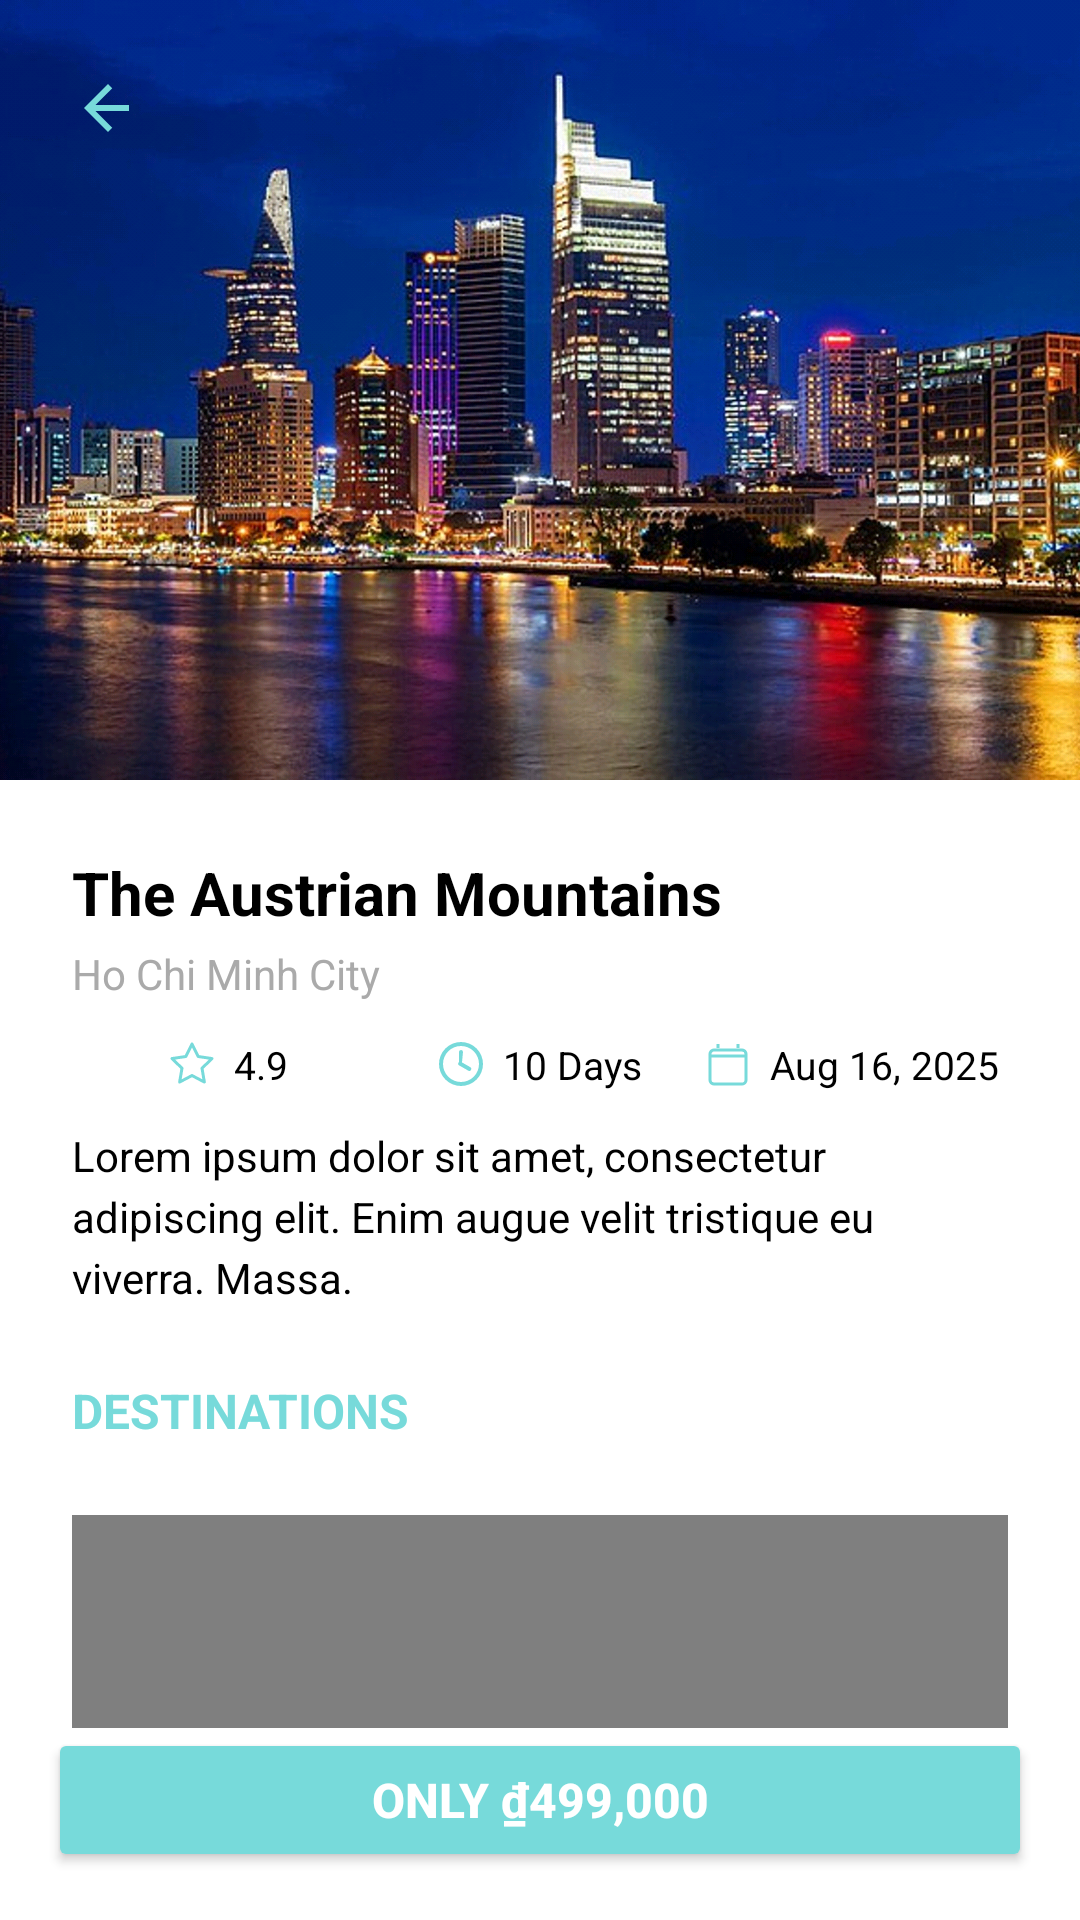

Named icons in this screenshot (1080px×1920px) and their centers, [x,y]:
arrow back: [126,105]
Duration: [461,1064]
Rating: [192,1063]
Start Date: [728,1065]
